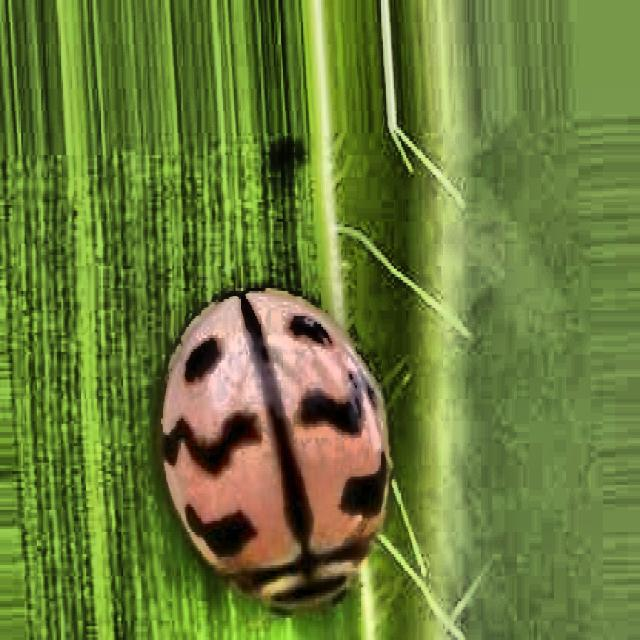Asian-Lady-beetle: (122, 239, 458, 640)
